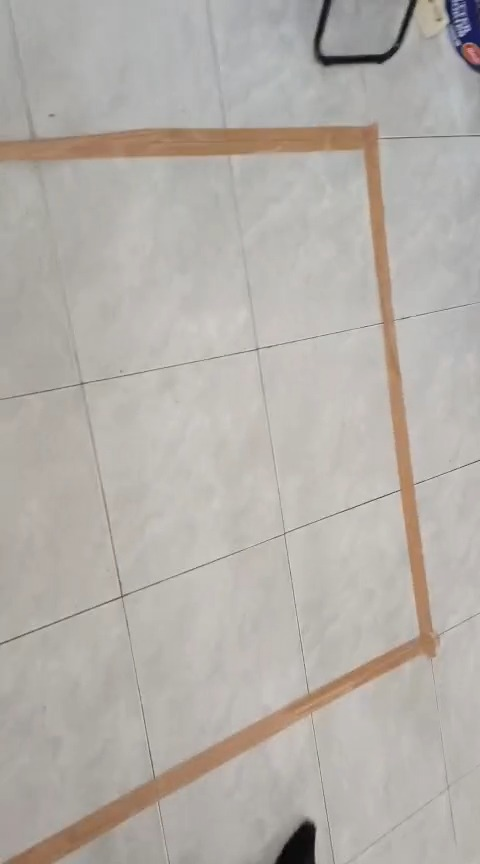floor marking: (0, 126, 435, 863)
